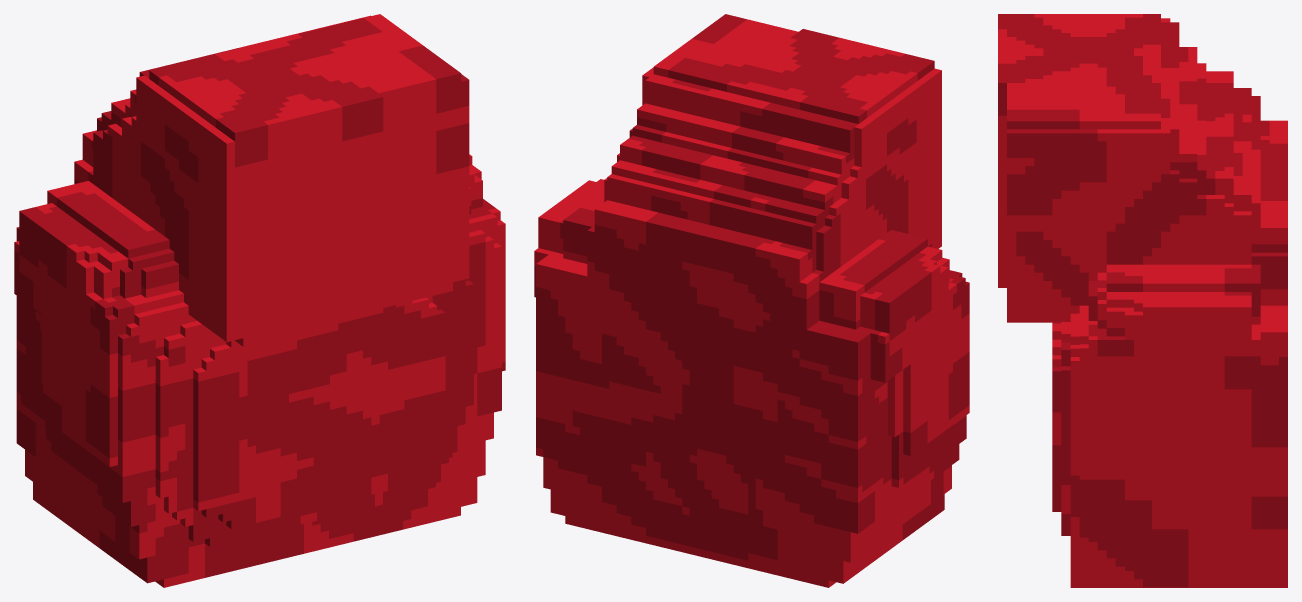
The model's file is MeleeRogatiy-6.obj.
3 renders of one model, left to right at view 1: azimuth 30°, elevation 25°; view 2: azimuth 150°, elevation 25°; view 3: azimuth 270°, elevation 25°, orthographic. The views are drawn at different scales.
Bounding box in the file's own units: 4.8 × 5.5 × 3.2.
Materials: 1 (1 with a texture image).
